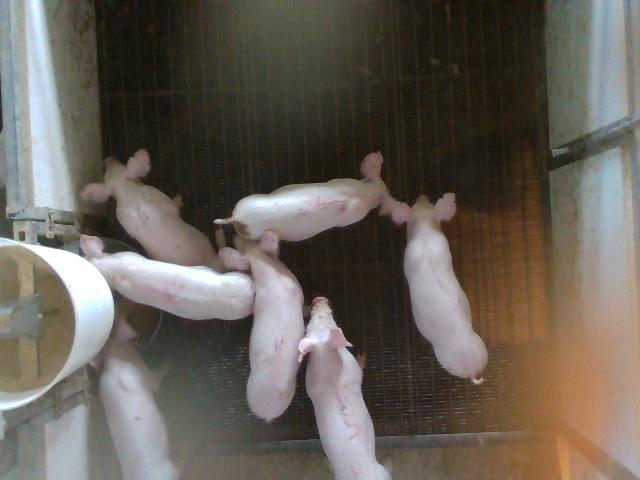pig-3: (299, 298, 390, 479)
pig-4: (80, 237, 255, 319)
pig-5: (215, 151, 410, 241)
